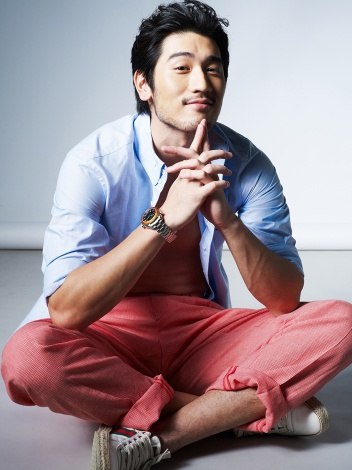male: (107, 1, 247, 146)
